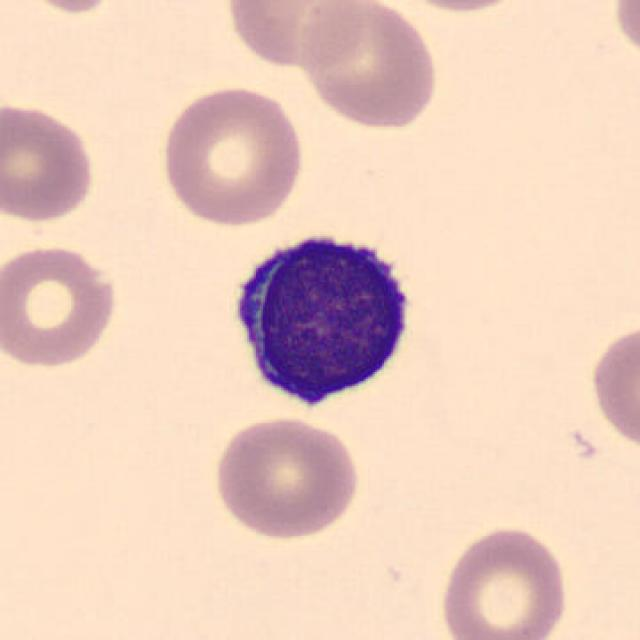Lymphocyte: (218, 217, 428, 418)
RBC: (156, 81, 308, 228), (208, 413, 363, 543), (295, 0, 443, 132), (0, 240, 123, 372), (436, 522, 572, 640), (0, 98, 100, 225), (220, 0, 372, 71), (585, 317, 638, 455), (382, 0, 537, 16), (608, 0, 640, 74), (5, 0, 132, 16)
